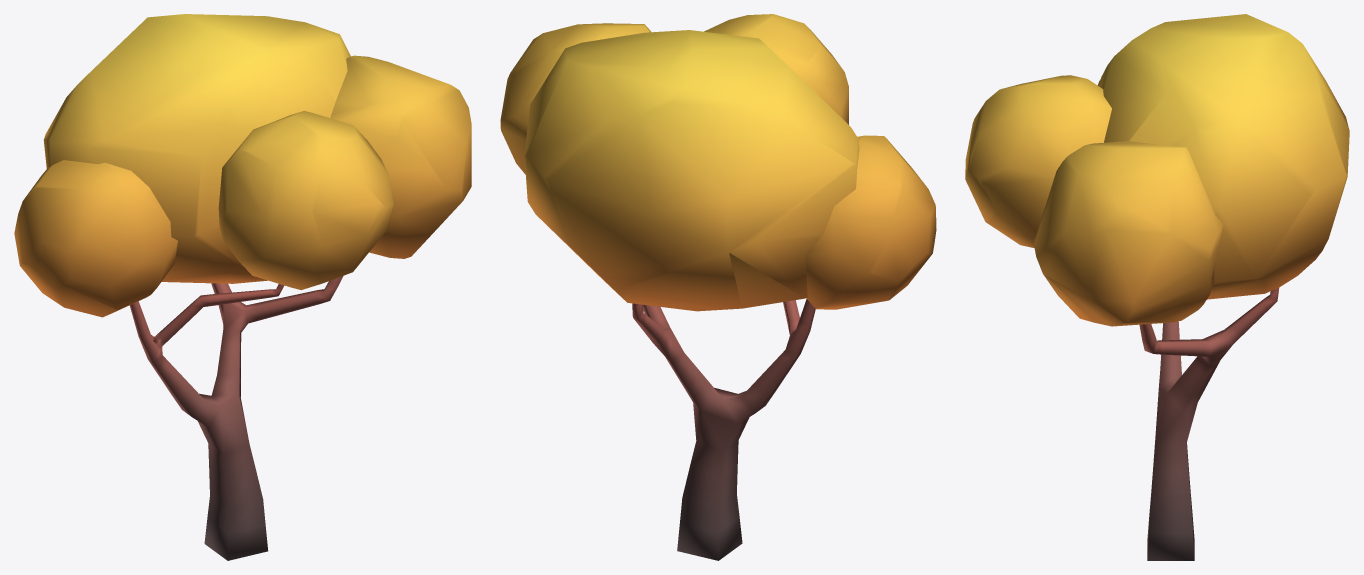
3 views of the same model, side by side, from view 1: azimuth 30°, elevation 25°; view 2: azimuth 150°, elevation 25°; view 3: azimuth 270°, elevation 25° (orthographic). The views are drawn at different scales.
Parts seen in each view (by area): view 1: Vert.028-col; view 2: Vert.028-col; view 3: Vert.028-col.
Part boxes in pixels (x1,y1,x2,y2): Vert.028-col: (14, 14, 471, 560); Vert.028-col: (500, 14, 936, 560); Vert.028-col: (965, 14, 1349, 560).
Bounding box in the file's own units: 4.45 × 5.11 × 3.49.
Materials: 1 (1 with a texture image).
